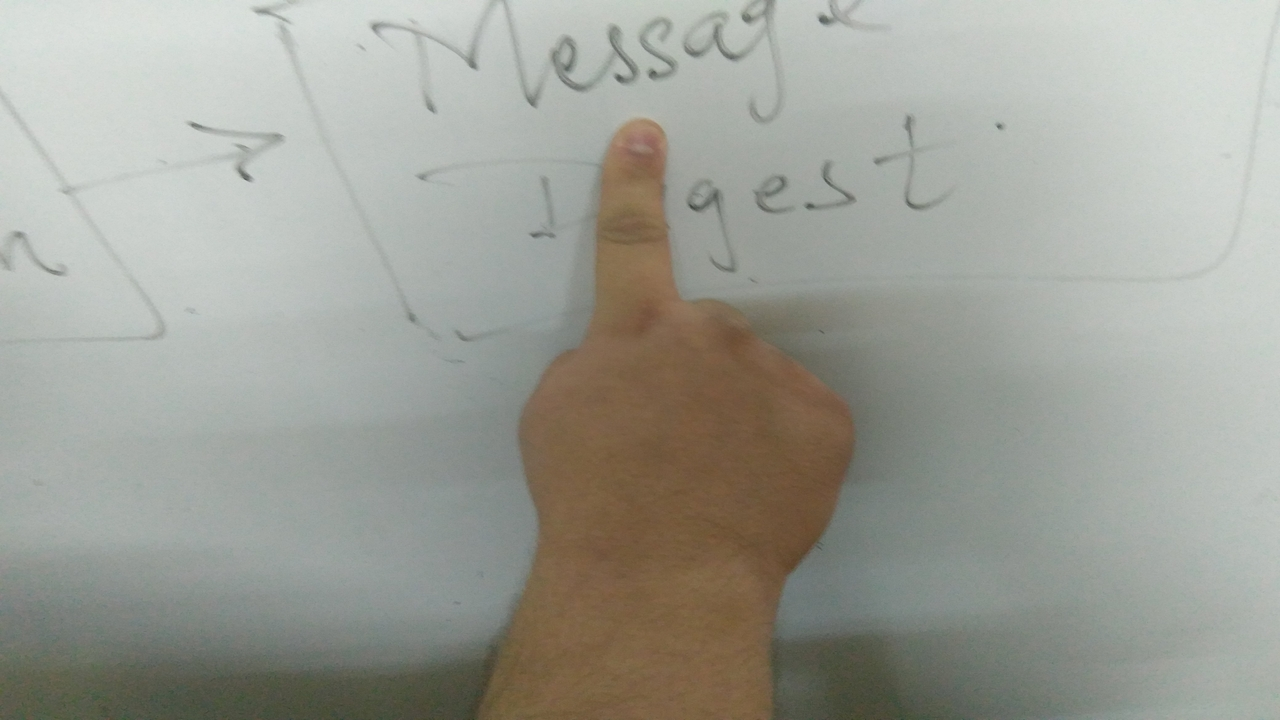fingertip: (598, 122, 670, 170)
